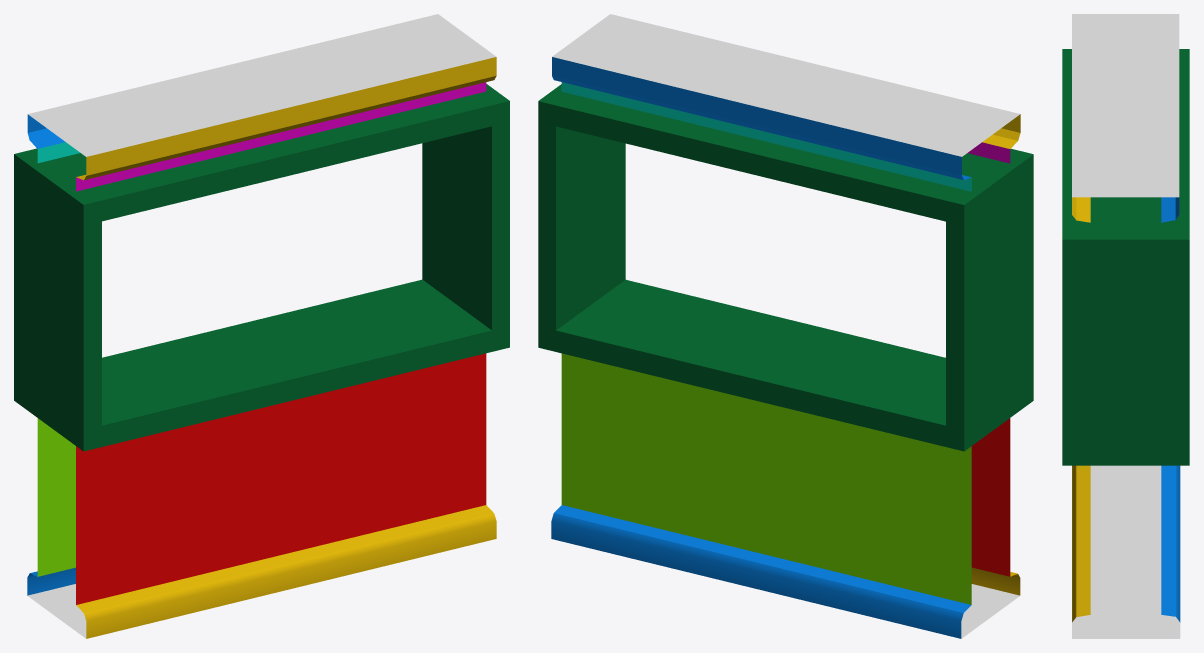
The model's file is Wall_window.fbx.
3 renders of one model, left to right at view 1: azimuth 30°, elevation 25°; view 2: azimuth 150°, elevation 25°; view 3: azimuth 270°, elevation 25°, orthographic. The views are drawn at different scales.
Visible parts, largest first — view 1: wall_Window; view 2: wall_Window; view 3: wall_Window.
Boxes of the visible parts, x1,y1,x2,y2 form: wall_Window: (14,14,509,638); wall_Window: (538,14,1033,638); wall_Window: (1062,14,1189,638).
Size of the model in its own units: 208 by 225 by 58.73.
